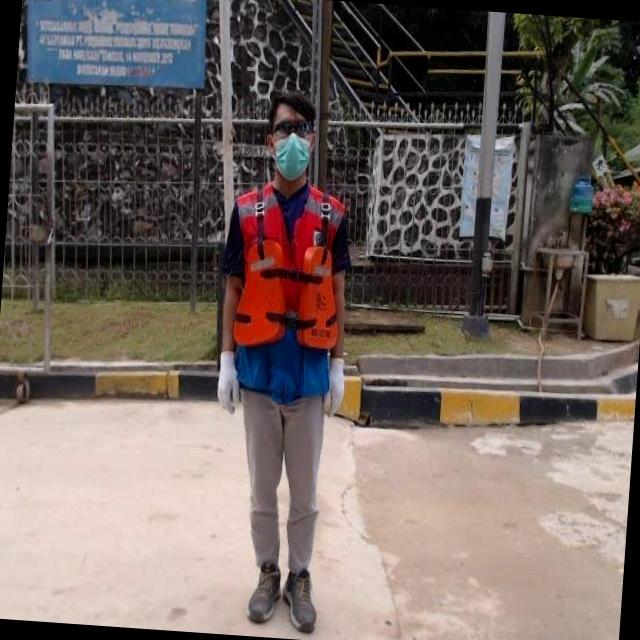gloves: (201, 345, 253, 411), (317, 344, 357, 426)
no-boots: (278, 568, 320, 635), (244, 559, 284, 627)
no-helmet: (241, 89, 339, 206)
vest: (222, 177, 346, 402)
